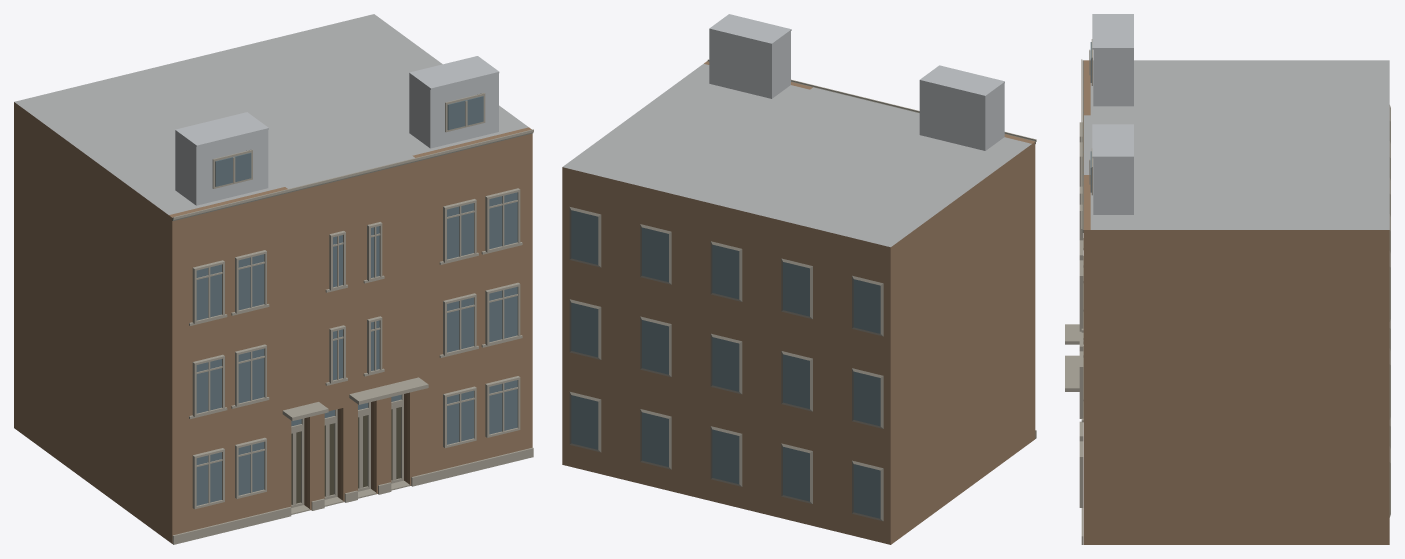
File: chunk-face-haen-3-31-r1.glb
3 renders of one model, left to right at view 1: azimuth 30°, elevation 25°; view 2: azimuth 150°, elevation 25°; view 3: azimuth 270°, elevation 25°, orthographic. The views are drawn at different scales.
Parts seen in each view (by area): view 1: face-haen-3-31-r1; view 2: face-haen-3-31-r1; view 3: face-haen-3-31-r1.
Part boxes in pixels (x1,y1,x2,y2): face-haen-3-31-r1: (14,14,533,544); face-haen-3-31-r1: (562,14,1036,544); face-haen-3-31-r1: (1065,14,1390,544).
Bounding box in the file's own units: 12.8 × 13.19 × 10.39.
